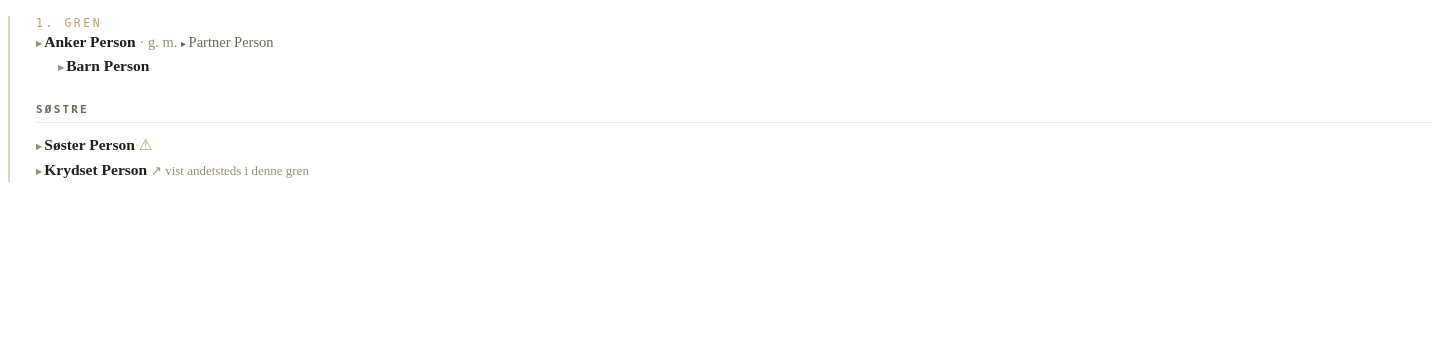
Test: to forskellige rækker kan være foldet ud samtidig, uafhængigt af hinanden
Click the text "Anker Person".
click(90, 42)  # box [44,33,136,50]
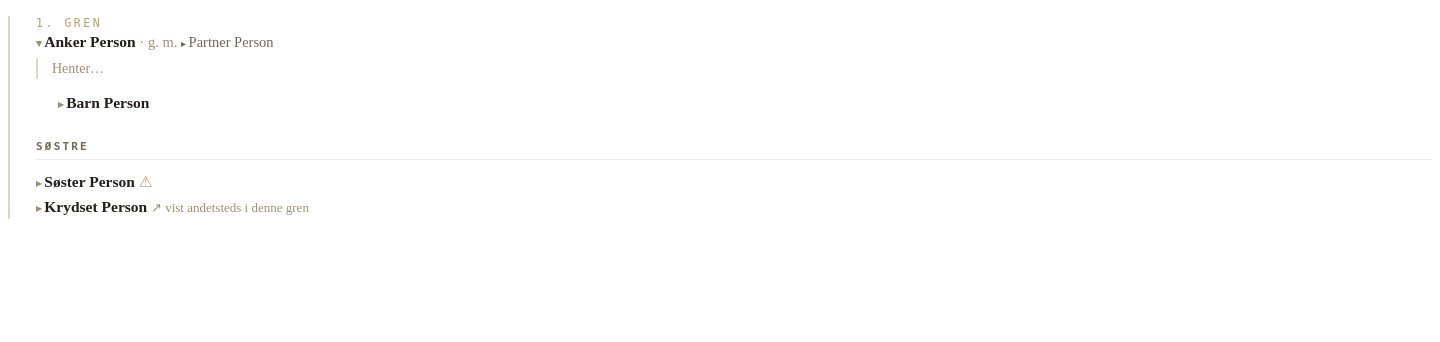
Click the text "Søster Person".
click(90, 182)  # box [44,173,135,190]
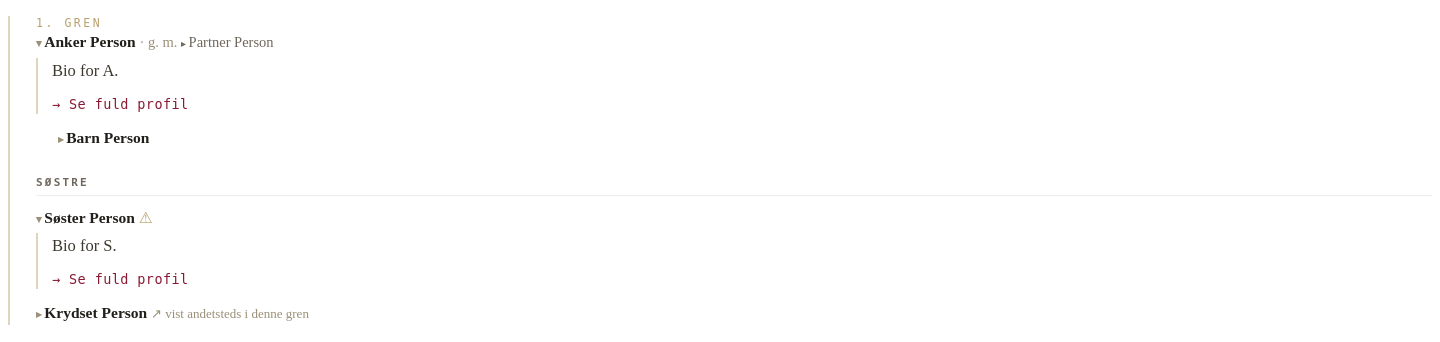
Expected: the text "Bio for A." is shown, [52,61,118,80]
Expected: the text "Bio for S." is shown, [52,236,117,255]
